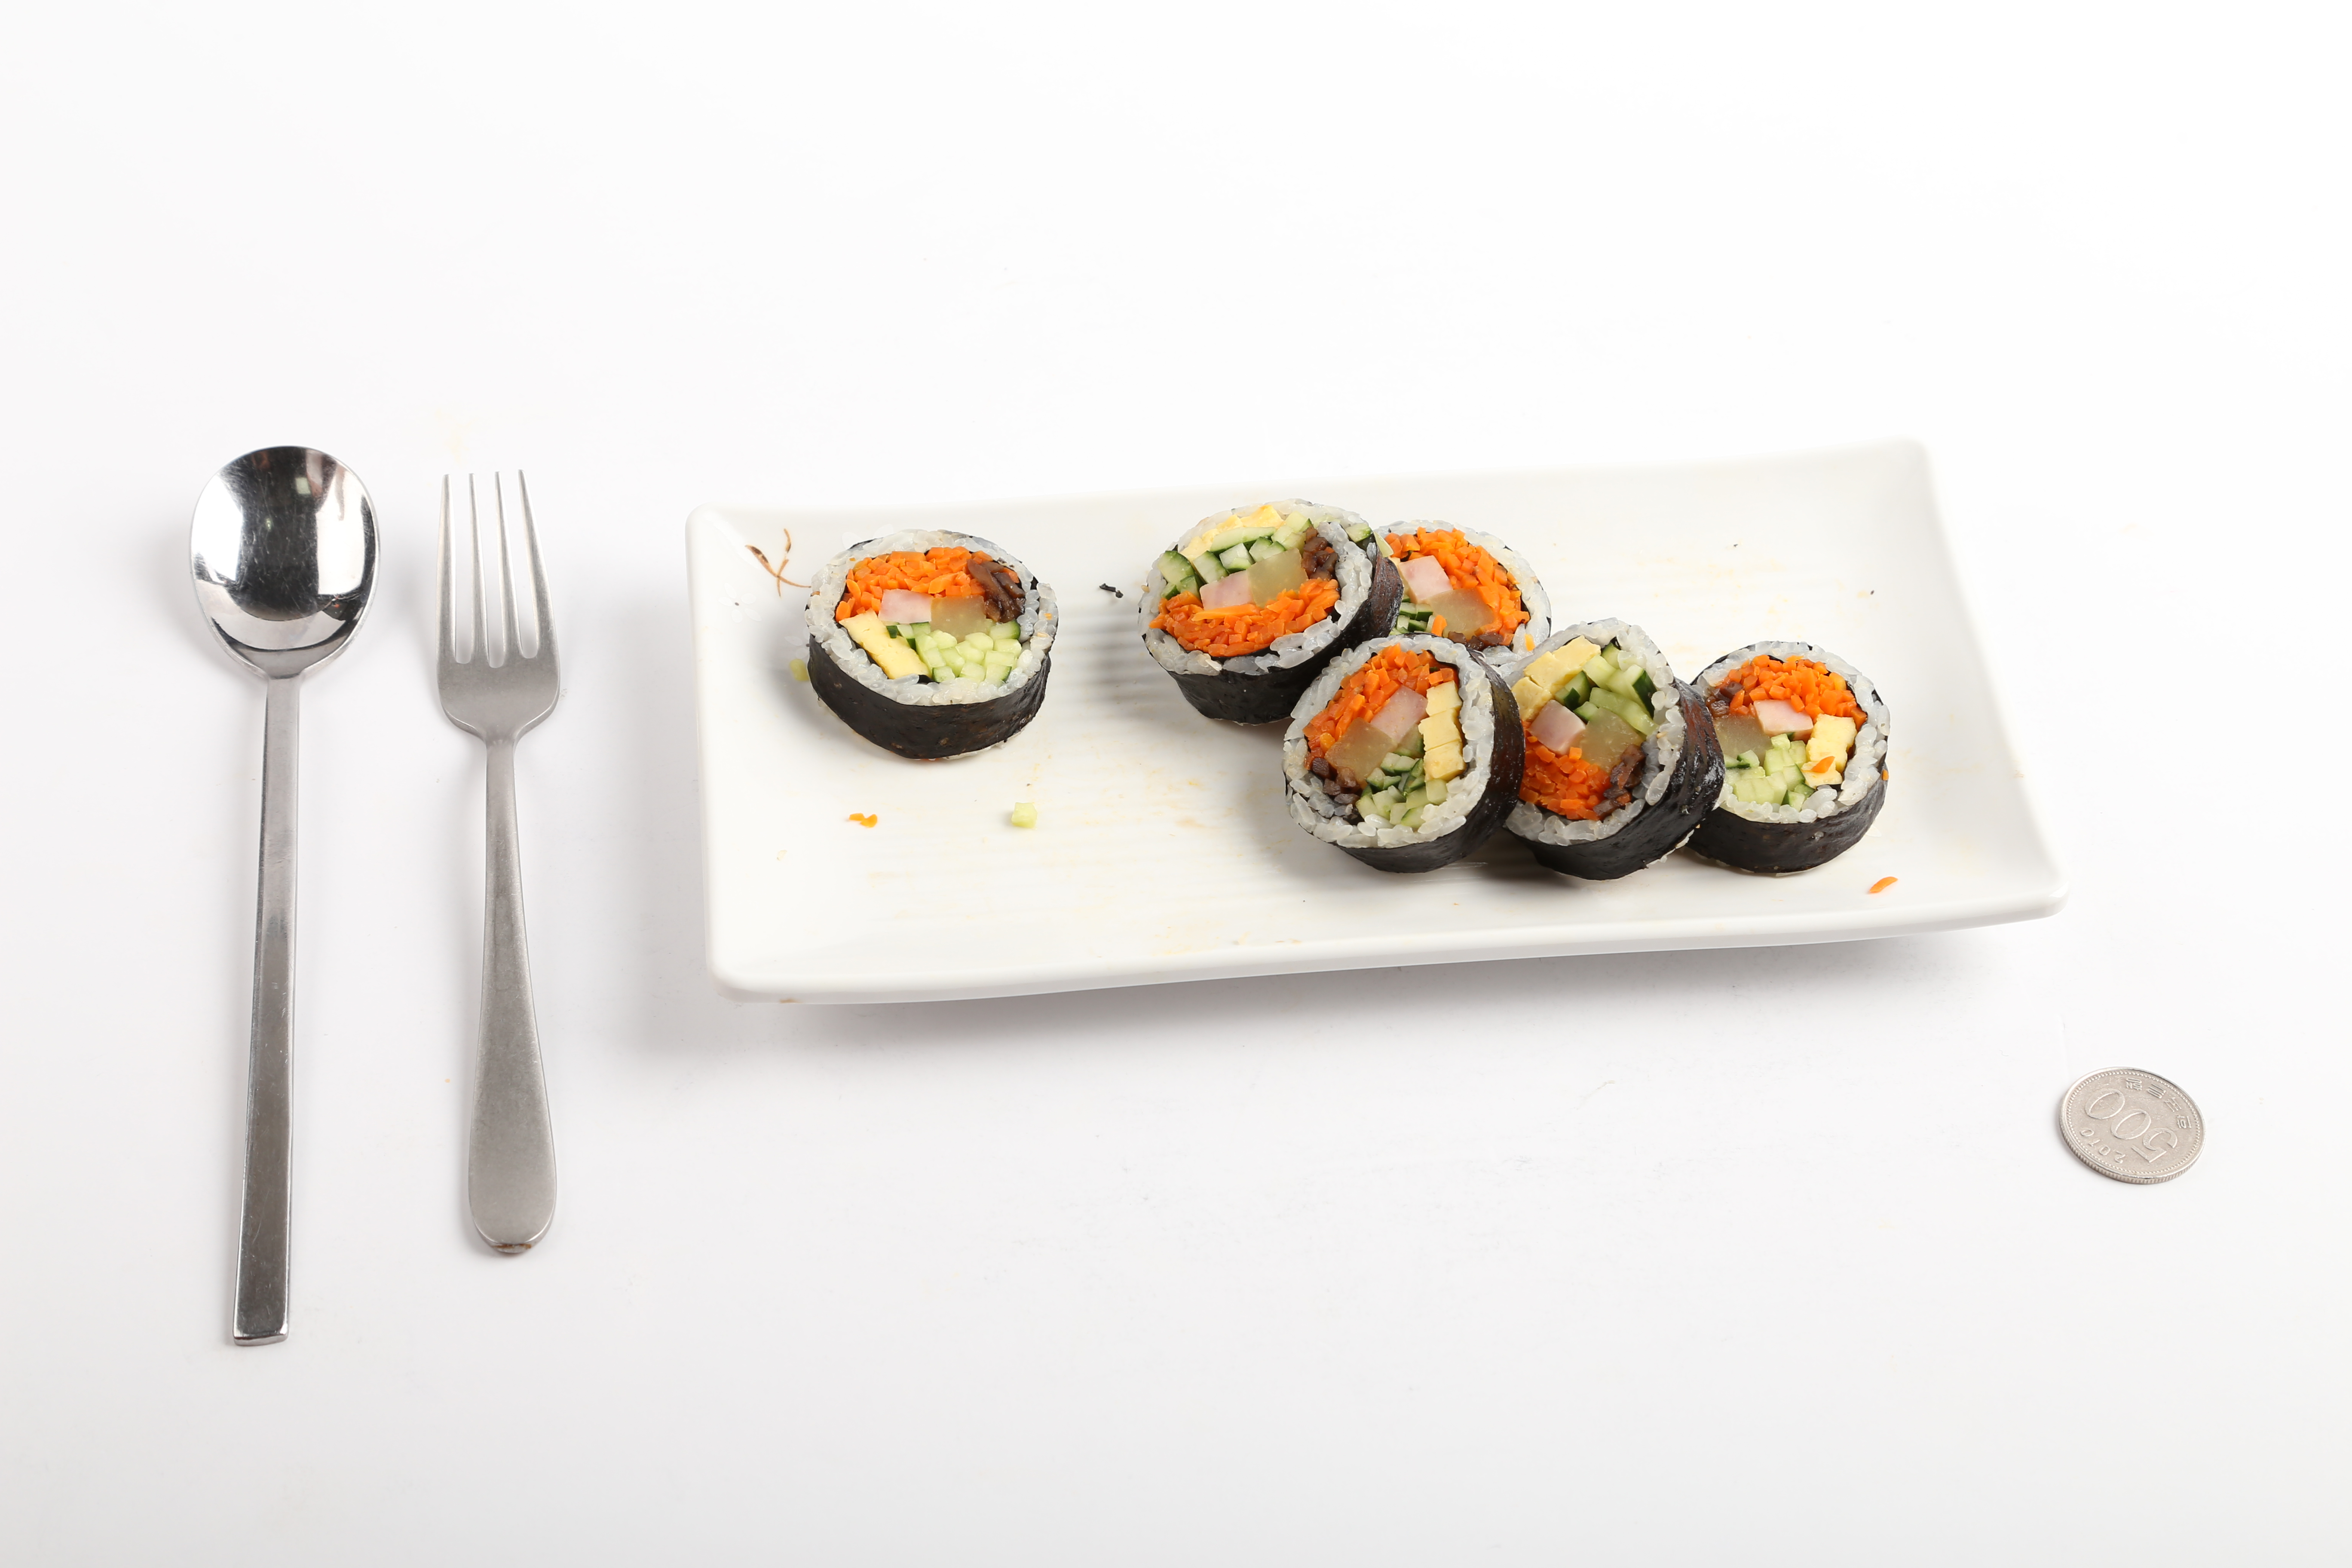dish: (677, 441, 2077, 1010)
ref_coin: (2042, 1053, 2208, 1192)
ref_fork: (423, 467, 563, 854)
ref_spoon: (182, 444, 381, 794)
김밥: (794, 493, 1890, 885)
